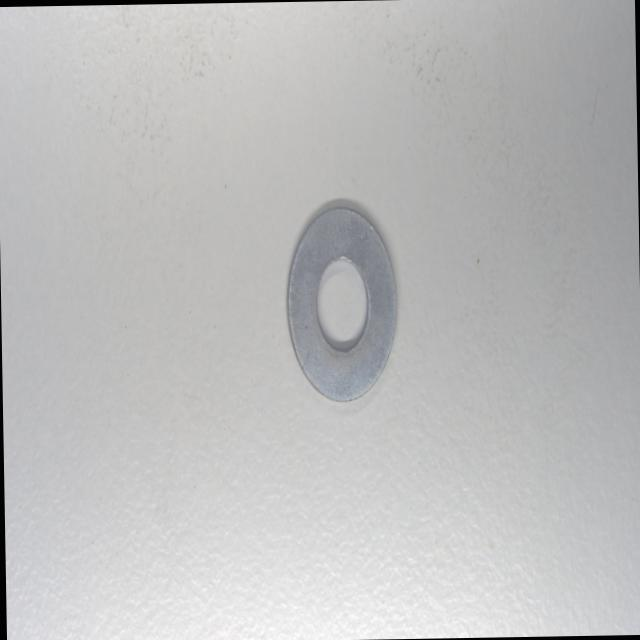washer: (283, 204, 401, 408)
